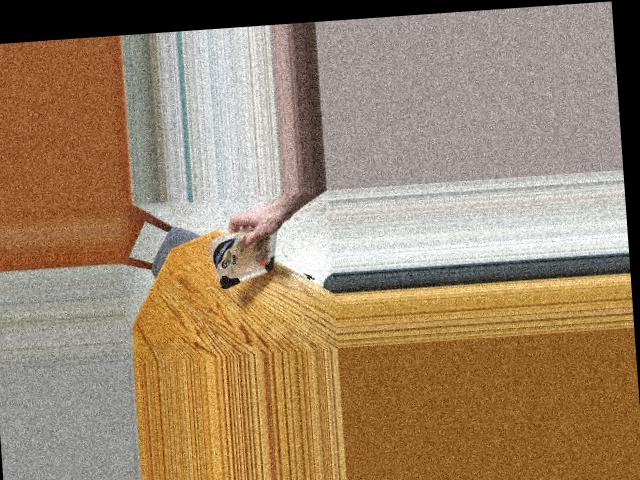cheese: (206, 228, 283, 283)
